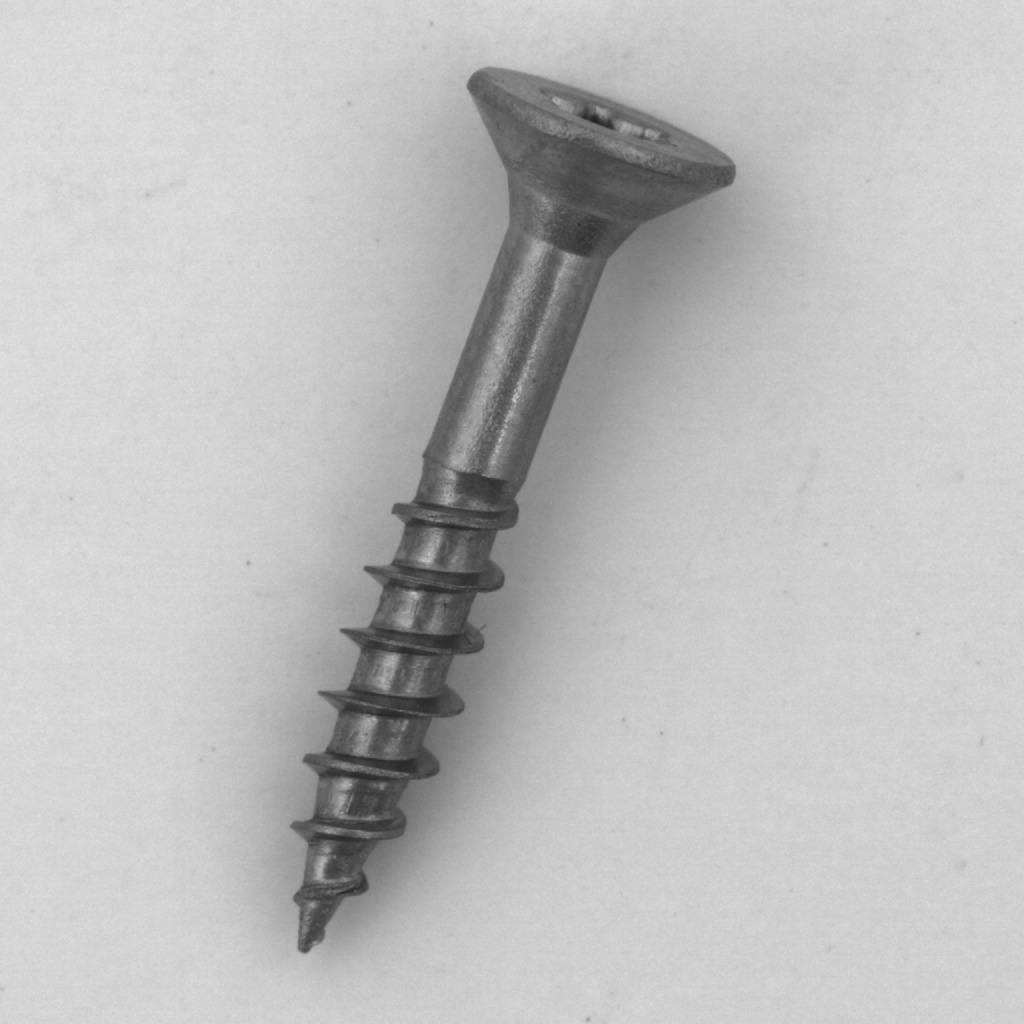good: (264, 54, 747, 973)
